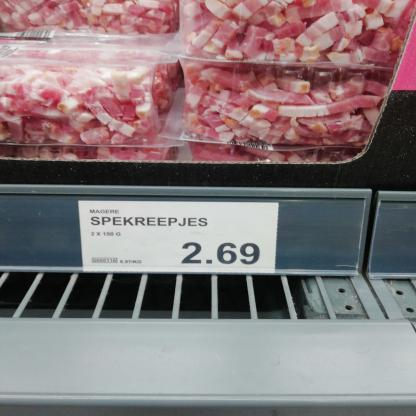prtg: (79, 201, 279, 274)
